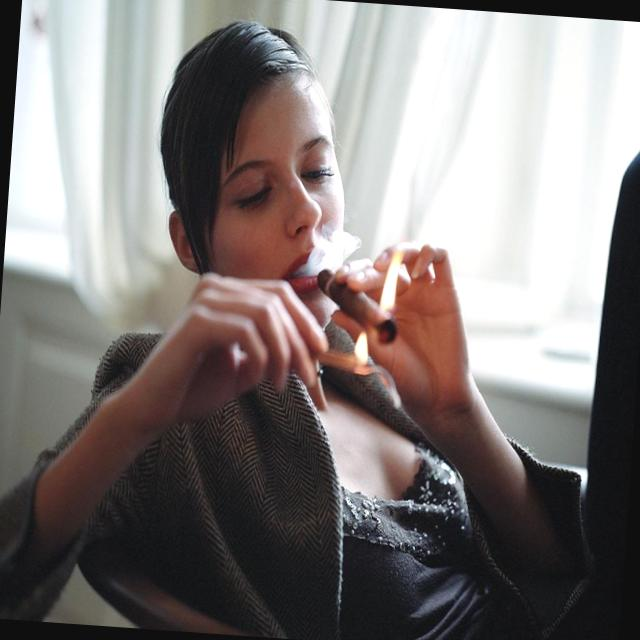cigarette: (305, 245, 406, 352)
